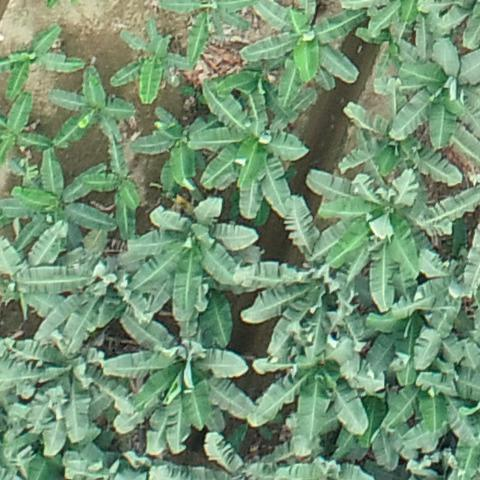Banana-plant: (309, 165, 480, 311), (104, 306, 252, 461), (238, 195, 354, 351), (248, 324, 384, 454), (196, 76, 315, 220), (6, 313, 130, 447), (122, 195, 258, 317), (384, 311, 480, 455), (340, 76, 462, 187), (1, 149, 115, 253), (244, 0, 358, 101), (385, 20, 480, 141), (0, 221, 93, 321), (37, 249, 122, 343), (133, 107, 213, 196), (48, 68, 133, 147), (112, 24, 185, 104), (84, 141, 141, 241), (1, 29, 83, 97), (160, 0, 249, 57), (0, 93, 51, 165)
